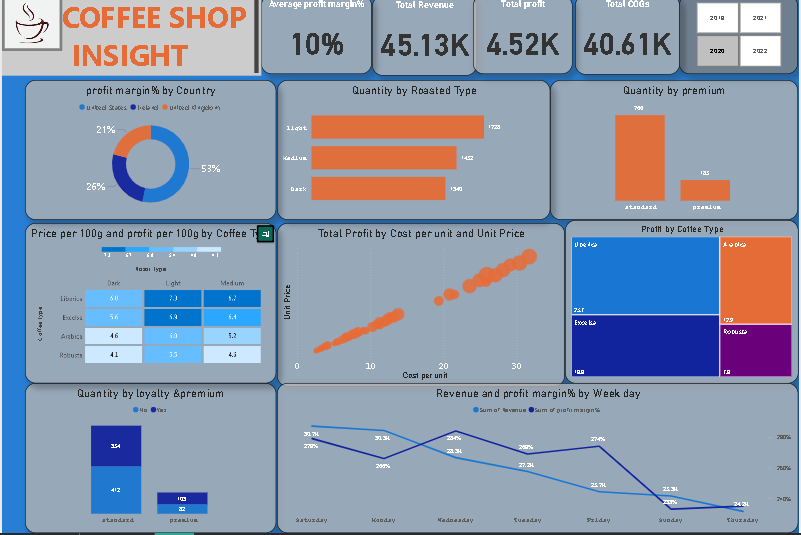

What the dashboard file says about the page in this screenshot:
{"tool":"powerbi","page":{"name":"Page 1","canvas":[1480,1000],"ordinal":0},"visuals":[{"type":"card","title":"Total Revenue","fields":{"Values":["Sum(products.Revenue)"]},"box":[688,1.6,194.7,148.5],"z":0},{"type":"scatterChart","title":"Total Profit by Cost per unit and Unit Price","fields":{"X":["products.Cost per unit"],"Y":["products.Unit Price"],"Size":["Sum(products.Total Profit)"]},"box":[510.6,423.7,535.4,303.9],"z":1000},{"type":"card","title":"Average profit margin%","fields":{"Values":["Avg(products.profit margin%)"]},"box":[481.8,0,206.2,146.8],"z":2000},{"type":"columnChart","title":"Quantity by premium","fields":{"Category":["products.is premium"],"Y":["Sum(orders.Quantity)"]},"box":[1019.1,157.1,460.9,260.4],"z":3000},{"type":"lineStackedColumnComboChart","title":"Quantity by loyalty &premium","fields":{"Category":["products.is premium"],"Y":["Sum(orders.Quantity)"],"Series":["customers.Loyalty Card"]},"box":[43.4,721.4,467.2,279.1],"z":4000},{"type":"clusteredBarChart","title":"Quantity by Roasted Type","fields":{"Category":["products.Roast Type"],"Y":["Sum(products.Total Profit)"]},"box":[510.6,157.1,508.5,260.4],"z":5000},{"type":"treemap","title":" Profit by Coffee Type","fields":{"Group":["products.Coffee Type"],"Values":["Sum(products.Profit)"]},"box":[1045.9,417.5,434.1,303.9],"z":6000},{"type":"HeatMap67B54F74B5374B9EA95AC568DC37B14C","title":" Price per 100g and profit per 100g by Coffee Type and Roast Type","fields":{"yAxis":["products.Coffee Type"],"xAxis":["products.Roast Type"],"Value":["Sum(products.Price per 100g)"],"tooltip":["Sum(products.profit per 100g)"]},"box":[43.4,423.7,467.2,297.7],"z":7000},{"type":"donutChart","title":" profit margin% by Country","fields":{"Y":["Sum(products.profit margin%)"],"Category":["customers.Country"]},"box":[43.4,157.1,467.2,260.4],"z":8000},{"type":"lineChart","title":" Revenue and profit margin% by Week day","fields":{"Category":["Calendar.Week day"],"Y":["Sum(products.Revenue)"],"Y2":["Sum(products.profit margin%)"]},"box":[510.6,721.4,969.4,279.1],"z":9000},{"type":"textbox","box":[0,0,481.9,149.6],"z":10000},{"type":"slicer","title":"Year","fields":{"Values":["Calendar.Year"]},"box":[1258.8,0,221.2,146.8],"z":11000},{"type":"card","title":"Total COGs","fields":{"Values":["Sum(products.total Cogs)"]},"box":[1064.2,0,194.7,148.5],"z":12000},{"type":"card","title":"Total profit ","fields":{"Values":["Sum(products.Total Profit)"]},"box":[876.1,0,184.8,146.8],"z":13000}]}

Visuals, with their boxes in screenshot pixels (x1, y1, x2, y2), scaled from the page's 1480x1000 canvas onto the 801x535 screenshot:
"Total Revenue" card: bbox(372, 1, 478, 80)
"Total Profit by Cost per unit and Unit Price" scatterChart: bbox(276, 227, 566, 389)
"Average profit margin%" card: bbox(261, 0, 372, 79)
"Quantity by premium" columnChart: bbox(552, 84, 800, 223)
"Quantity by loyalty &premium" lineStackedColumnComboChart: bbox(23, 386, 276, 534)
"Quantity by Roasted Type" clusteredBarChart: bbox(276, 84, 552, 223)
" Profit by Coffee Type" treemap: bbox(566, 223, 800, 386)
" Price per 100g and profit per 100g by Coffee Type and Roast Type" HeatMap67B54F74B5374B9EA95AC568DC37B14C: bbox(23, 227, 276, 386)
" profit margin% by Country" donutChart: bbox(23, 84, 276, 223)
" Revenue and profit margin% by Week day" lineChart: bbox(276, 386, 800, 534)
textbox: bbox(0, 0, 261, 80)
"Year" slicer: bbox(681, 0, 800, 79)
"Total COGs" card: bbox(576, 0, 681, 79)
"Total profit " card: bbox(474, 0, 574, 79)
